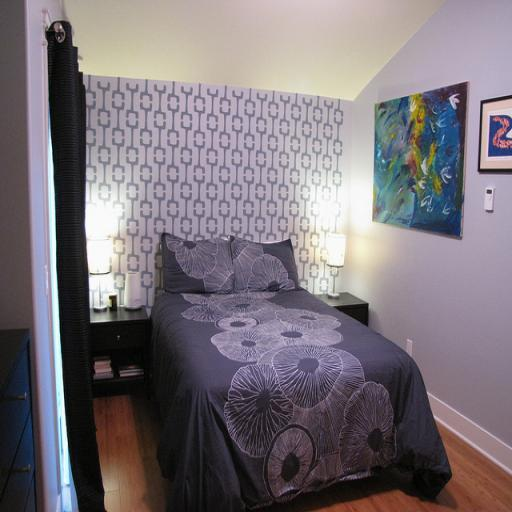bed: (136, 208, 458, 496)
